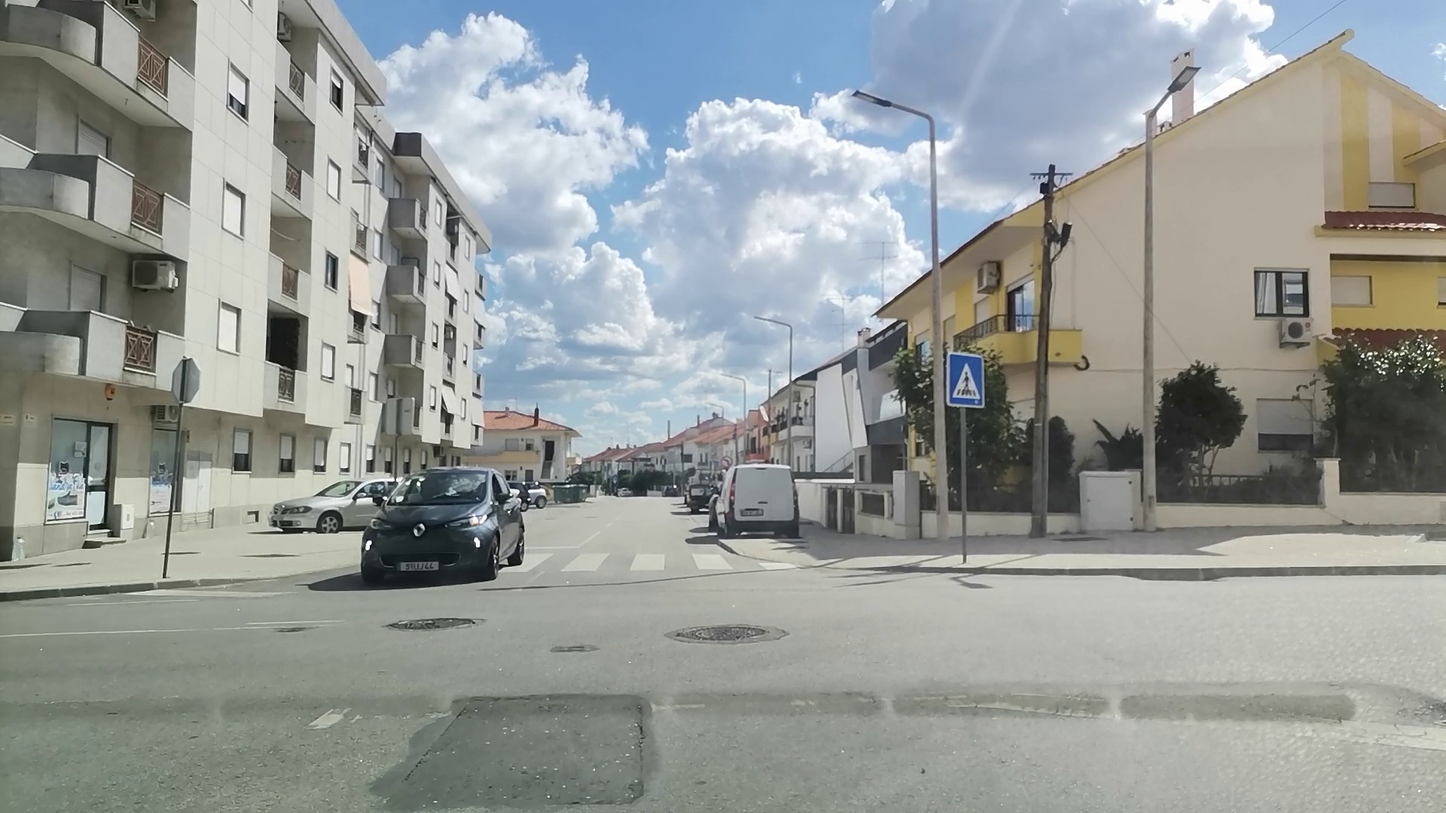Stairs: (507, 548, 797, 576)
